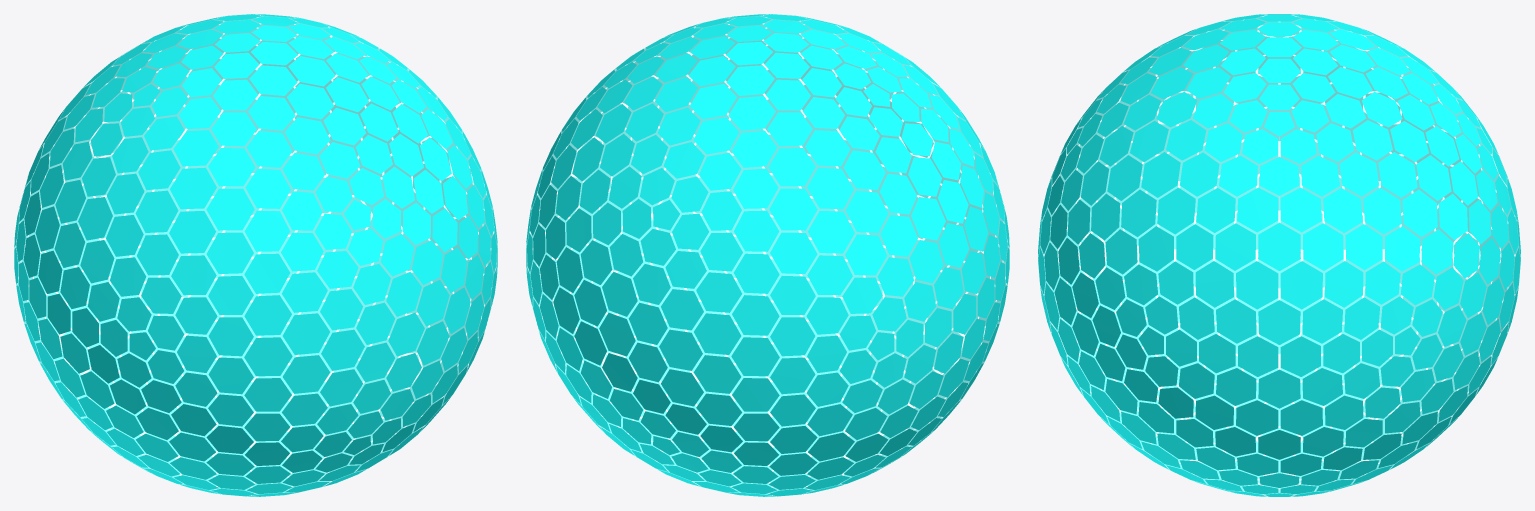
The model's file is shield effect.glb.
3 renders of one model, left to right at view 1: azimuth 30°, elevation 25°; view 2: azimuth 150°, elevation 25°; view 3: azimuth 270°, elevation 25°, orthographic.
Parts seen in each view (by area): view 1: base, hex; view 2: base, hex; view 3: base, hex.
Boxes of the visible parts, x1,y1,x2,y2 form: base: (14, 14, 497, 496); hex: (14, 14, 497, 496); base: (526, 14, 1009, 496); hex: (526, 14, 1009, 496); base: (1038, 14, 1520, 496); hex: (1038, 14, 1520, 496).
Bounding box in the file's own units: 199 × 199 × 199.
